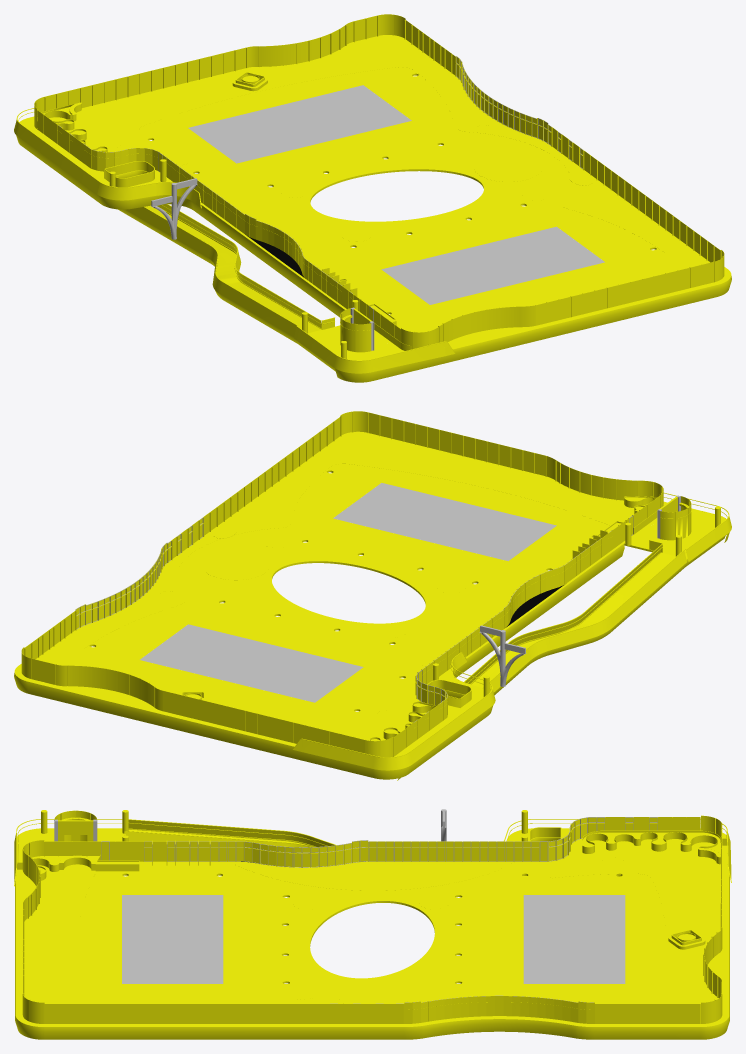
The model's file is sm_hana_building_3f_out.glb.
The picture shows the model from 3 angles, top to bottom: view 1: azimuth 30°, elevation 25°; view 2: azimuth 150°, elevation 25°; view 3: azimuth 270°, elevation 25°; orthographic projection. The views are drawn at different scales.
Parts seen in each view (by area): view 1: sm_hana_building_3f_out; view 2: sm_hana_building_3f_out; view 3: sm_hana_building_3f_out.
Part boxes in pixels (x1,y1,x2,y2): sm_hana_building_3f_out: (14, 14, 731, 382); sm_hana_building_3f_out: (14, 411, 731, 780); sm_hana_building_3f_out: (14, 809, 731, 1039).
Size of the model in its own units: 66.33 by 12.56 by 101.
Materials: 14 (11 with a texture image).
